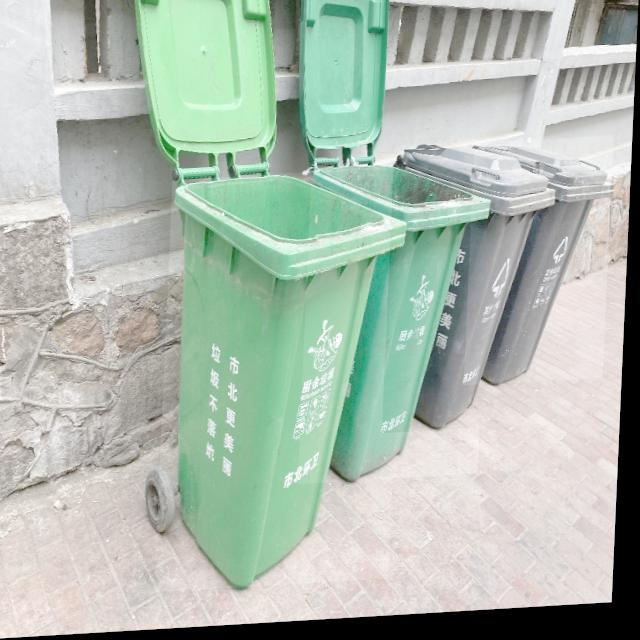garbage_bin: (160, 172, 408, 595), (302, 164, 494, 488), (386, 143, 559, 438), (467, 143, 615, 392)
